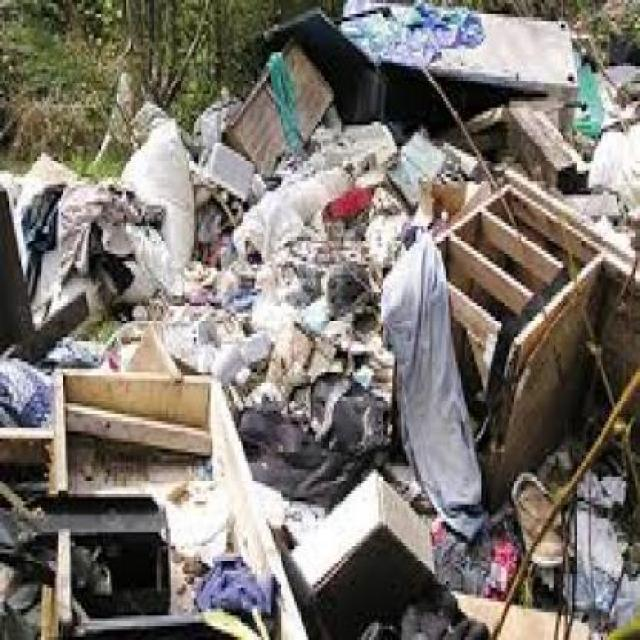garbage: (0, 163, 637, 636), (143, 66, 638, 167)
